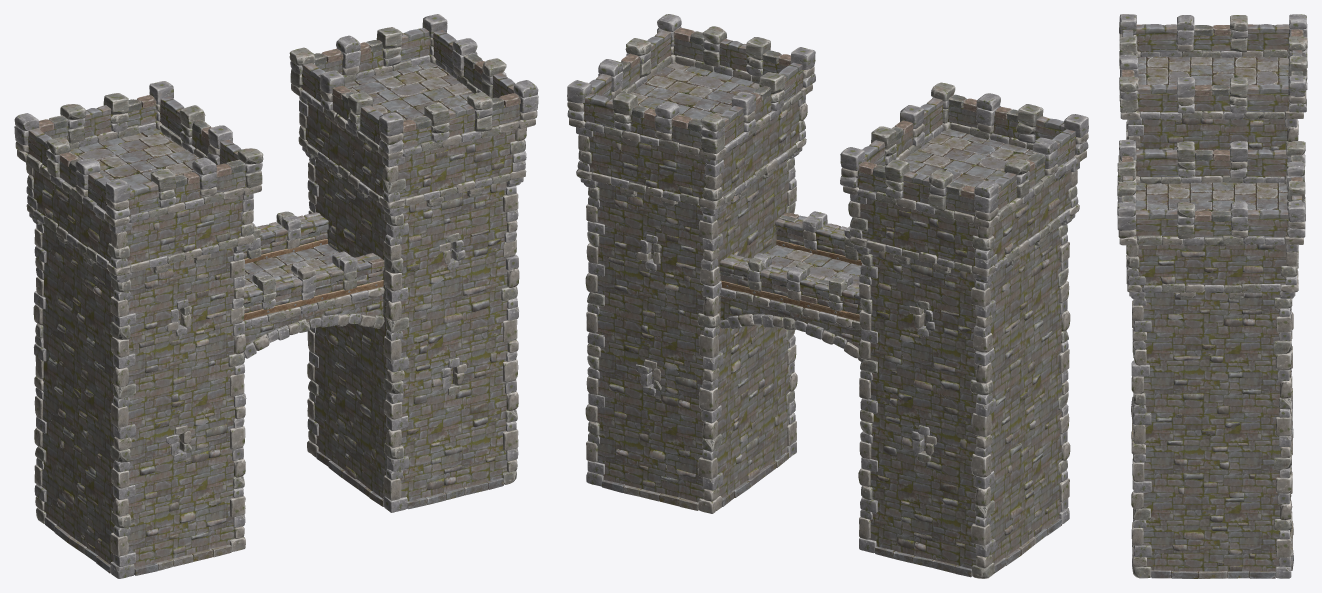
The picture shows the model from 3 angles, left to right: view 1: azimuth 30°, elevation 25°; view 2: azimuth 150°, elevation 25°; view 3: azimuth 270°, elevation 25°; orthographic projection. The views are drawn at different scales.
Parts seen in each view (by area): view 1: SM_Castle_Entrance_01_v2_LOD0; view 2: SM_Castle_Entrance_01_v2_LOD0; view 3: SM_Castle_Entrance_01_v2_LOD0.
Boxes of the visible parts, x1=… form: SM_Castle_Entrance_01_v2_LOD0: x1=14, y1=14, x2=538, y2=578; SM_Castle_Entrance_01_v2_LOD0: x1=567, y1=14, x2=1088, y2=578; SM_Castle_Entrance_01_v2_LOD0: x1=1117, y1=14, x2=1307, y2=578.
Bounding box in the file's own units: 20.94 × 18.85 × 8.64.
Materials: 6 (6 with a texture image).
